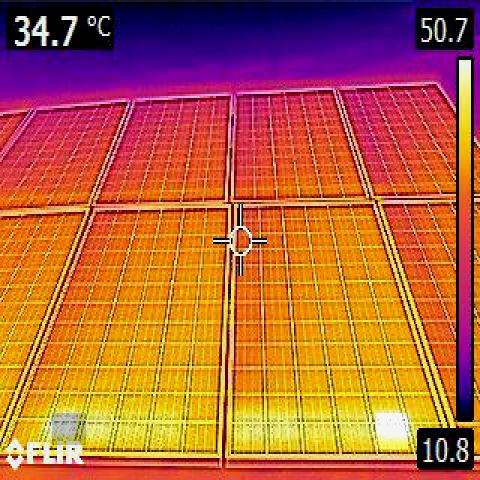fault: (376, 414, 408, 450), (53, 414, 87, 446)
